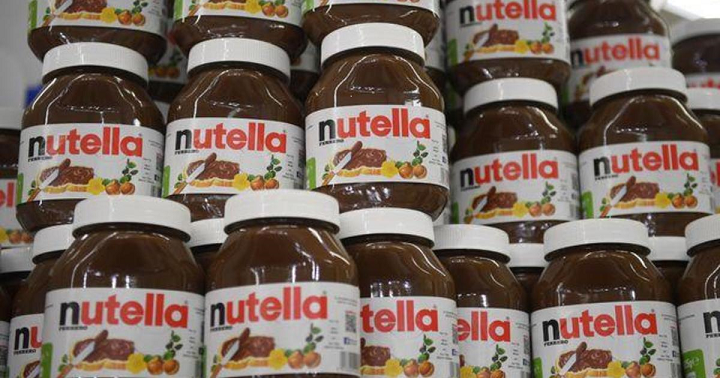nutella: (202, 188, 360, 377), (43, 195, 203, 378), (13, 38, 162, 230), (311, 22, 452, 208), (166, 36, 308, 220), (532, 216, 678, 378), (580, 67, 715, 225), (453, 79, 578, 233), (358, 208, 460, 378)
